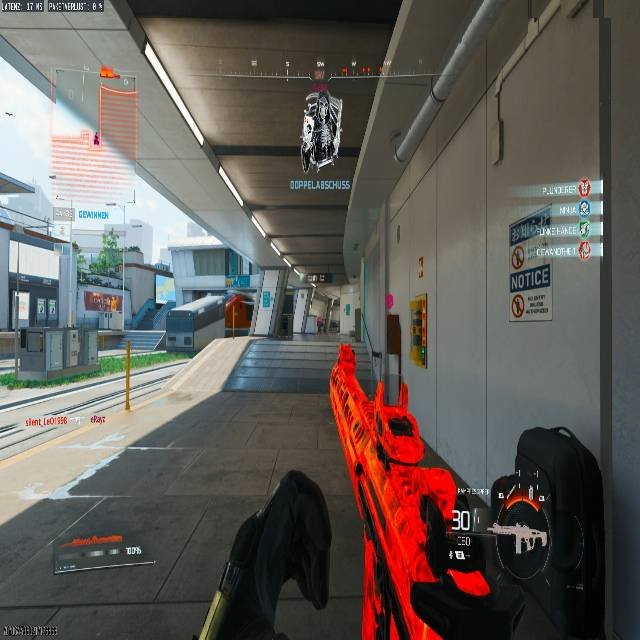player: (316, 315, 325, 334)
